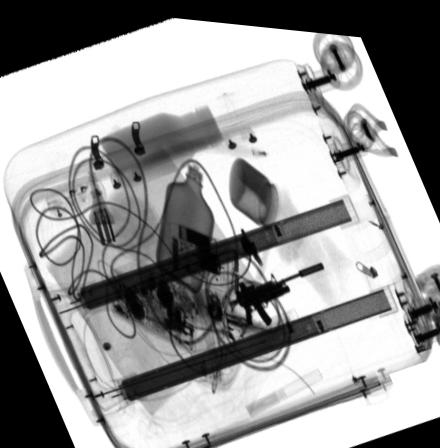Gun: (227, 255, 327, 323)
